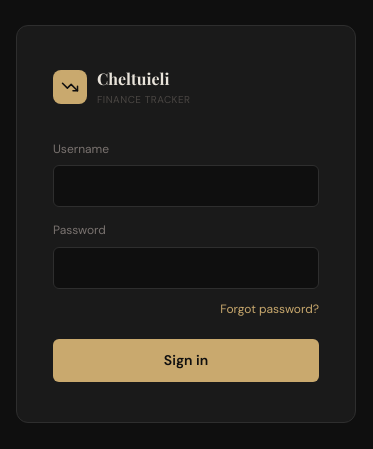
Login page › shows forgot password form when link is clicked
Click the button "Forgot password?" at (270, 310), box [220,300,319,319]
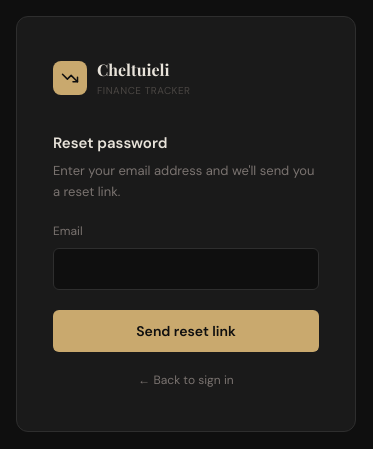
Check: the text "Reset password" is shown, box [53,133,167,153]
Check: the field labelled "Email" is shown, box [53,248,319,290]
